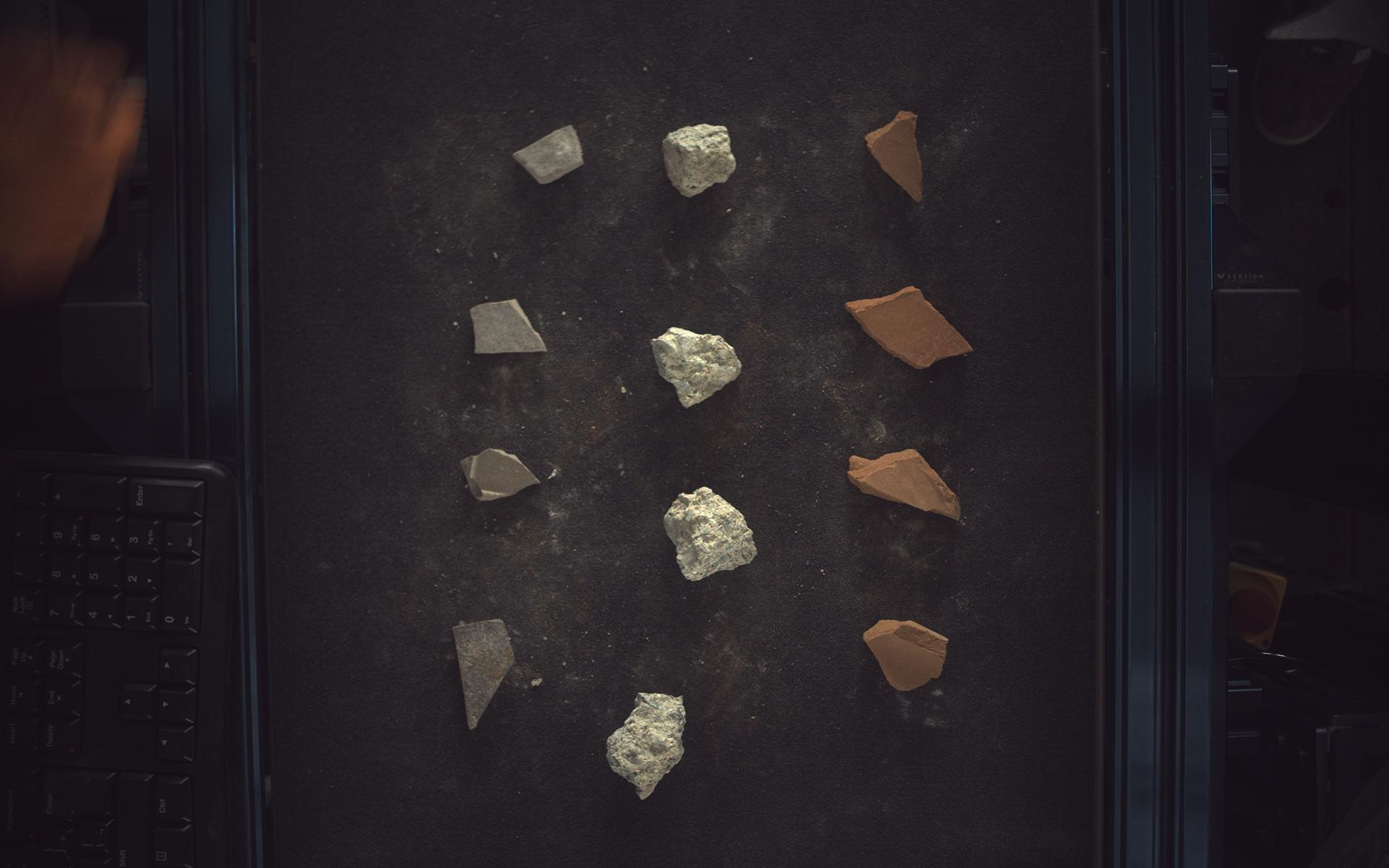brick: (848, 286, 974, 369), (849, 450, 962, 520), (865, 621, 949, 692), (867, 110, 925, 201)
concrete: (665, 487, 758, 582), (608, 694, 687, 801), (652, 328, 742, 408), (663, 123, 736, 196)
tile: (453, 620, 514, 731), (470, 299, 547, 354), (513, 124, 584, 183), (461, 448, 540, 501)
